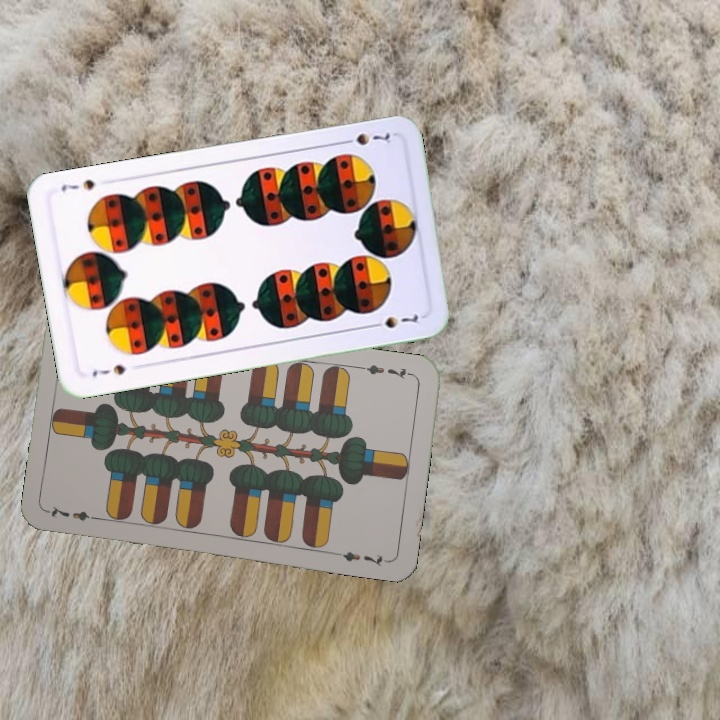E7: (356, 360, 416, 382), (45, 502, 104, 524)
S7: (337, 129, 393, 148), (88, 360, 128, 380)
